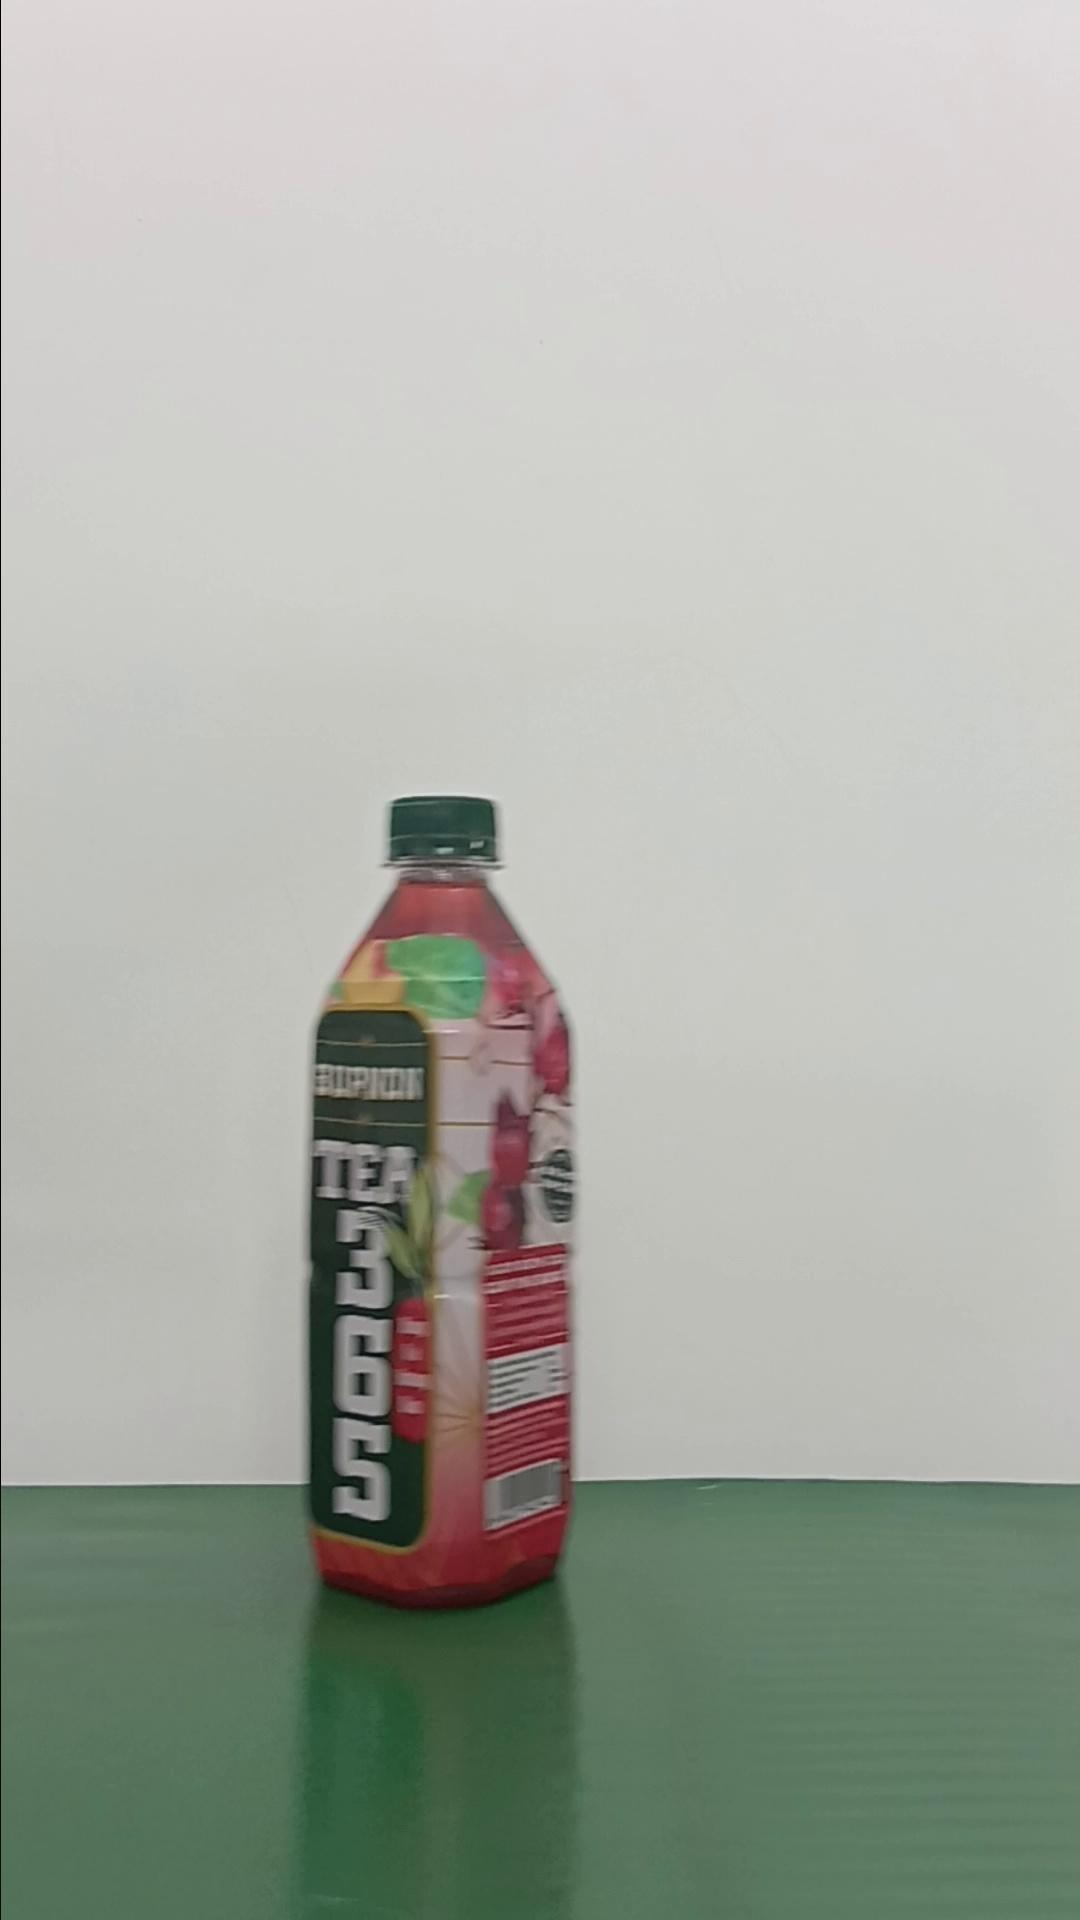khong loi: (302, 793, 579, 1609)
